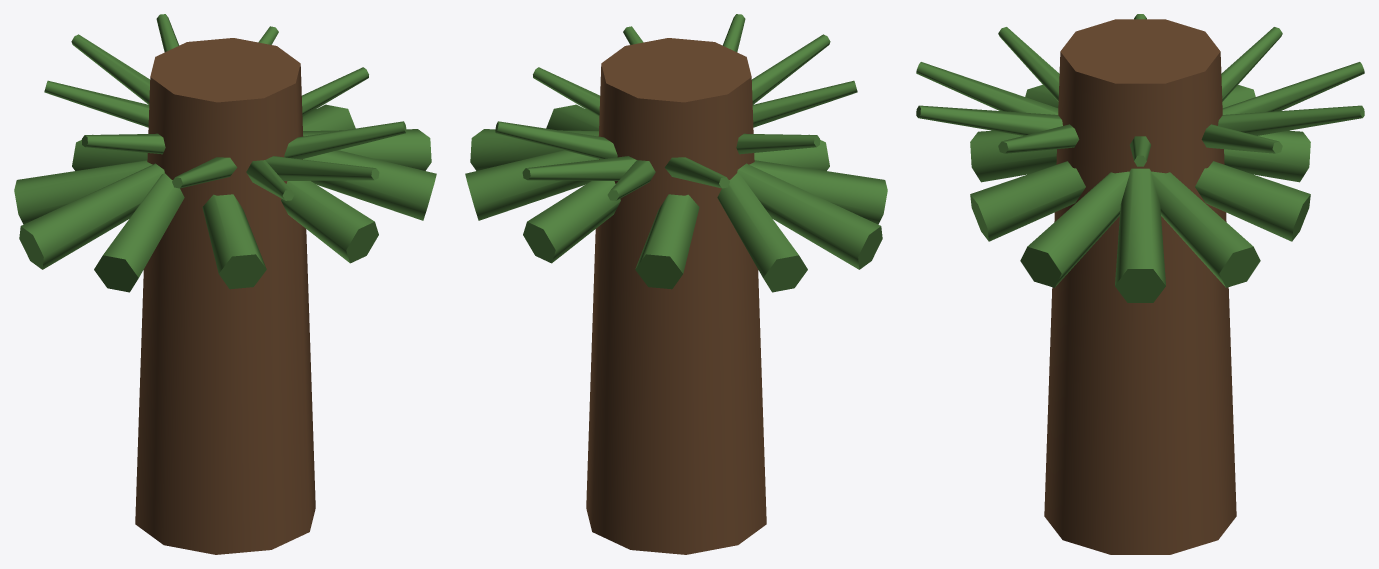
File: cycad.glb
3 views of the same model, side by side, from view 1: azimuth 30°, elevation 25°; view 2: azimuth 150°, elevation 25°; view 3: azimuth 270°, elevation 25° (orthographic). The views are drawn at different scales.
Bounding box in the file's own units: 1.49 × 1.65 × 1.4.
